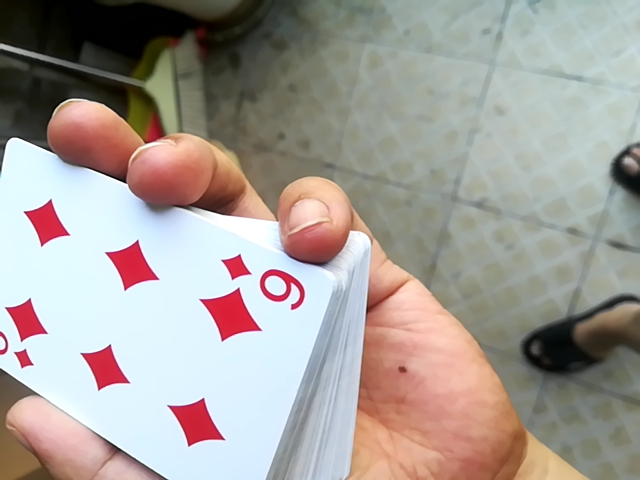fk 6: (1, 135, 349, 477)
